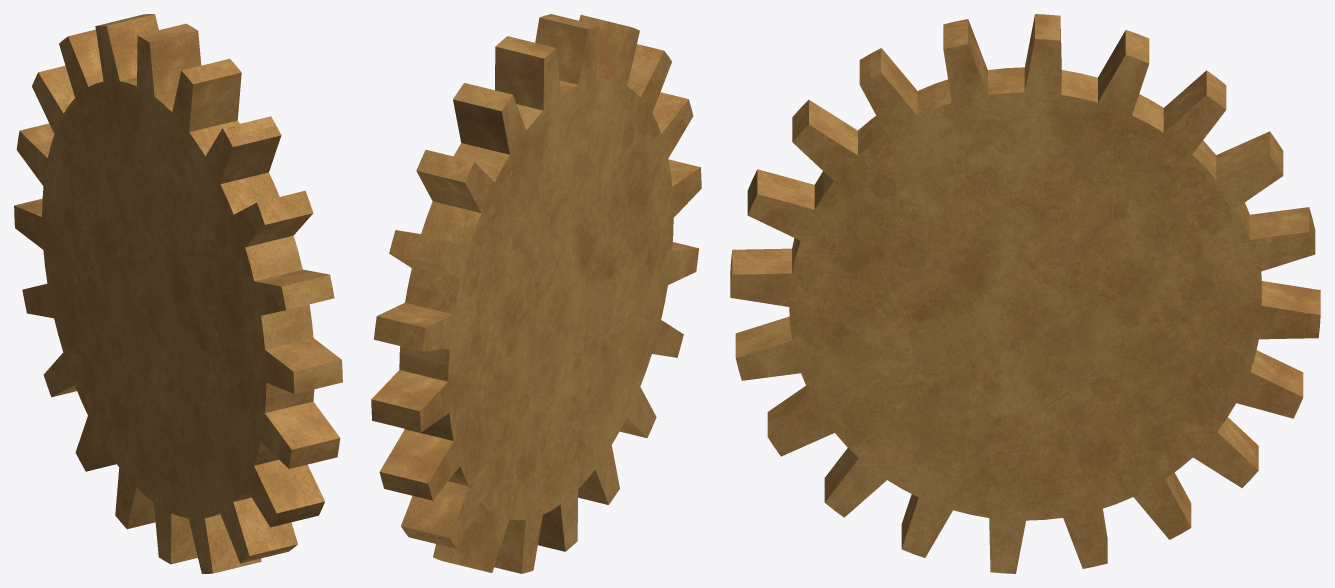
File: VenusGearCote.fbx
The picture shows the model from 3 angles, left to right: view 1: azimuth 30°, elevation 25°; view 2: azimuth 150°, elevation 25°; view 3: azimuth 270°, elevation 25°; orthographic projection. The views are drawn at different scales.
Visible parts, largest first — view 1: GearCote; view 2: GearCote; view 3: GearCote.
Part boxes in pixels (bbox=[...]): GearCote: bbox=[14, 14, 342, 573]; GearCote: bbox=[371, 14, 701, 573]; GearCote: bbox=[730, 14, 1320, 573].
Size of the model in its own units: 10 by 99.95 by 99.95.
Materials: 1 (1 with a texture image).
